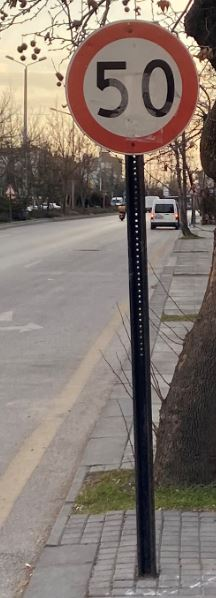50 Km Hiz Siniri: (63, 18, 198, 153)
